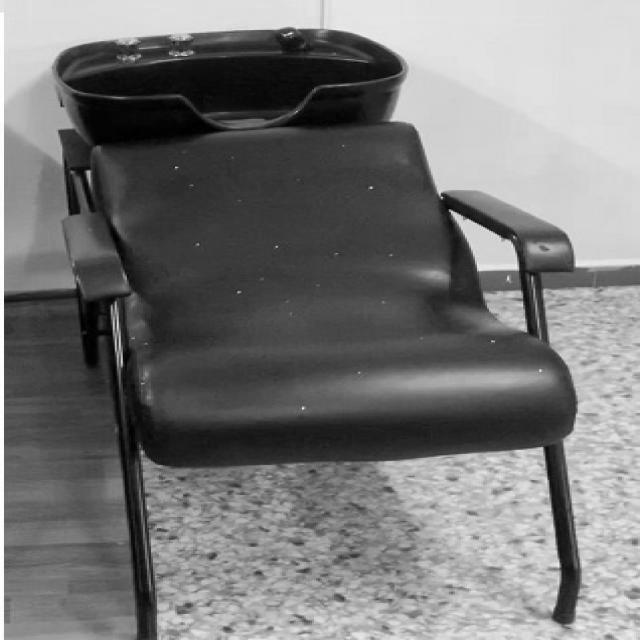chair: (58, 28, 592, 638)
